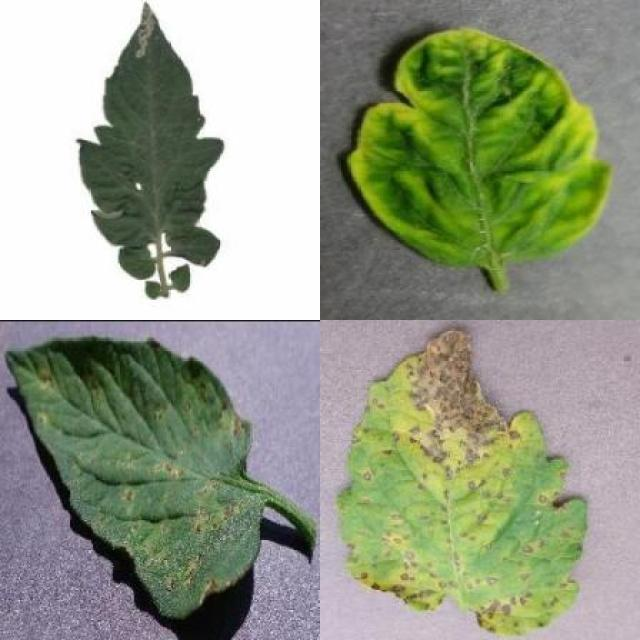Leaf Miner: (77, 1, 230, 250)
Septoria: (339, 330, 590, 640), (5, 335, 265, 614)
Yellow Leaf Curl Virus: (352, 26, 612, 266)
